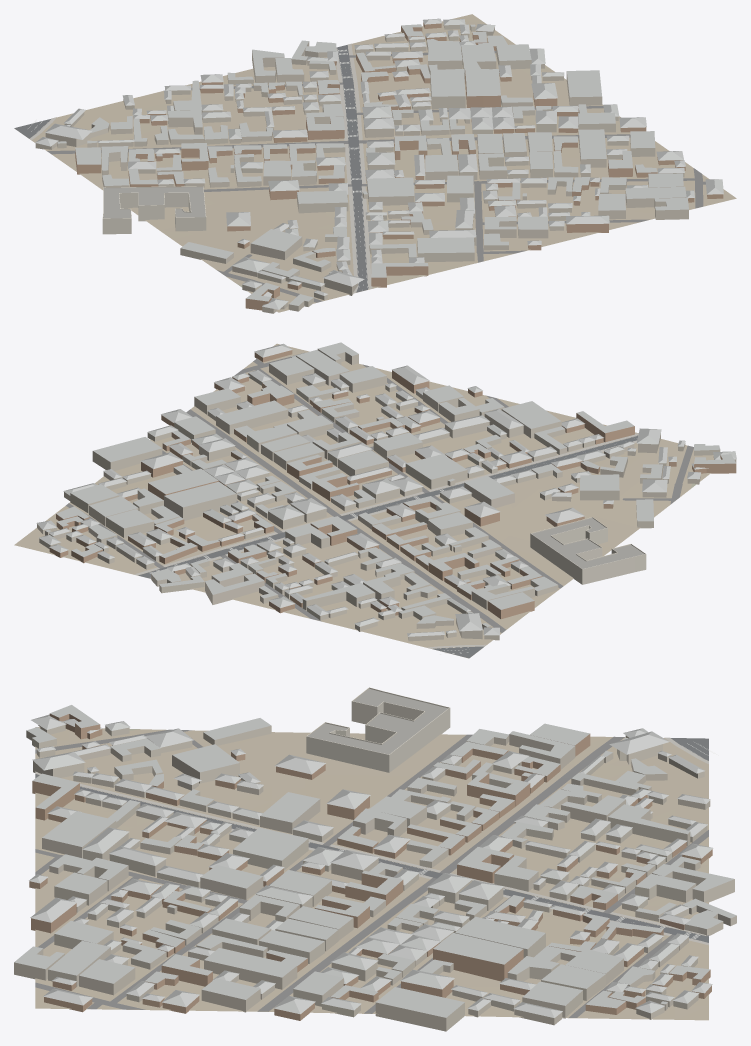
Rendered from bolak_4_3.glb.
3 renders of one model, top to bottom at view 1: azimuth 30°, elevation 25°; view 2: azimuth 150°, elevation 25°; view 3: azimuth 270°, elevation 25°, orthographic. The views are drawn at different scales.
Visible parts, largest first — view 1: Tom_Shifer, Yer_Tuproq-col, Devor_Suvoq-col, Devor_Gisht-col, Yol_Mahalla-col, Yol_Asfalt-col, Devor_Jamoat-col, Trotuar, Tom_Tekis; view 2: Tom_Shifer, Yer_Tuproq-col, Devor_Suvoq-col, Devor_Gisht-col, Yol_Mahalla-col, Devor_Jamoat-col, Yol_Asfalt-col, Tom_Tekis, Trotuar; view 3: Tom_Shifer, Yer_Tuproq-col, Devor_Suvoq-col, Devor_Gisht-col, Yol_Mahalla-col, Devor_Jamoat-col, Tom_Tekis, Yol_Asfalt-col, Trotuar.
Part boxes in pixels (x1,y1,x2,y2): Tom_Shifer: [35, 18, 723, 309]; Yer_Tuproq-col: [15, 14, 736, 312]; Devor_Suvoq-col: [35, 25, 688, 313]; Devor_Gisht-col: [75, 22, 723, 310]; Yol_Mahalla-col: [47, 47, 705, 302]; Yol_Asfalt-col: [14, 45, 368, 292]; Devor_Jamoat-col: [102, 186, 206, 234]; Trotuar: [29, 43, 372, 293]; Tom_Tekis: [103, 187, 205, 218]; Tom_Shifer: [36, 342, 736, 636]; Yer_Tuproq-col: [14, 343, 713, 658]; Devor_Suvoq-col: [37, 349, 736, 641]; Devor_Gisht-col: [49, 350, 736, 619]; Yol_Mahalla-col: [66, 356, 693, 632]; Devor_Jamoat-col: [530, 517, 646, 584]; Yol_Asfalt-col: [138, 435, 637, 658]; Tom_Tekis: [532, 518, 644, 568]; Trotuar: [134, 433, 638, 648]; Tom_Shifer: [14, 705, 736, 1017]; Yer_Tuproq-col: [35, 727, 708, 1020]; Devor_Suvoq-col: [14, 724, 736, 1031]; Devor_Gisht-col: [29, 713, 712, 1020]; Yol_Mahalla-col: [35, 729, 708, 1017]; Devor_Jamoat-col: [306, 687, 450, 772]; Tom_Tekis: [308, 688, 447, 754]; Yol_Asfalt-col: [35, 738, 708, 942]; Trotuar: [35, 737, 708, 945].
Size of what is drawn, in the model's own units: 460 by 19.34 by 429.
